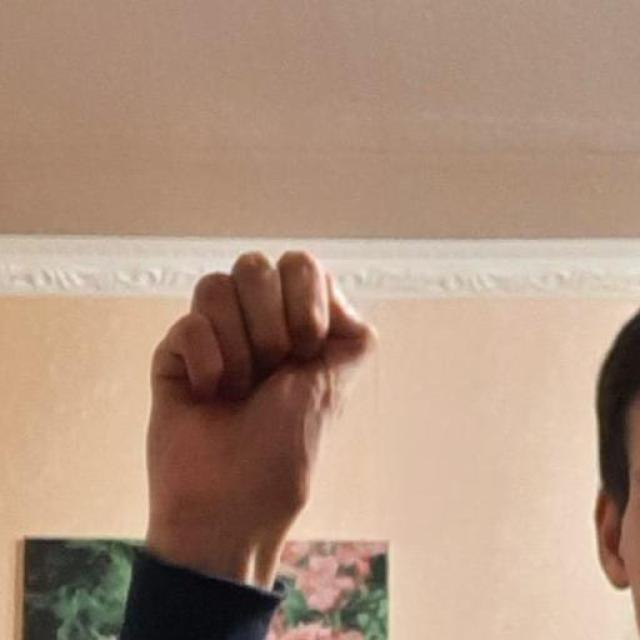hand: (142, 247, 380, 588)
